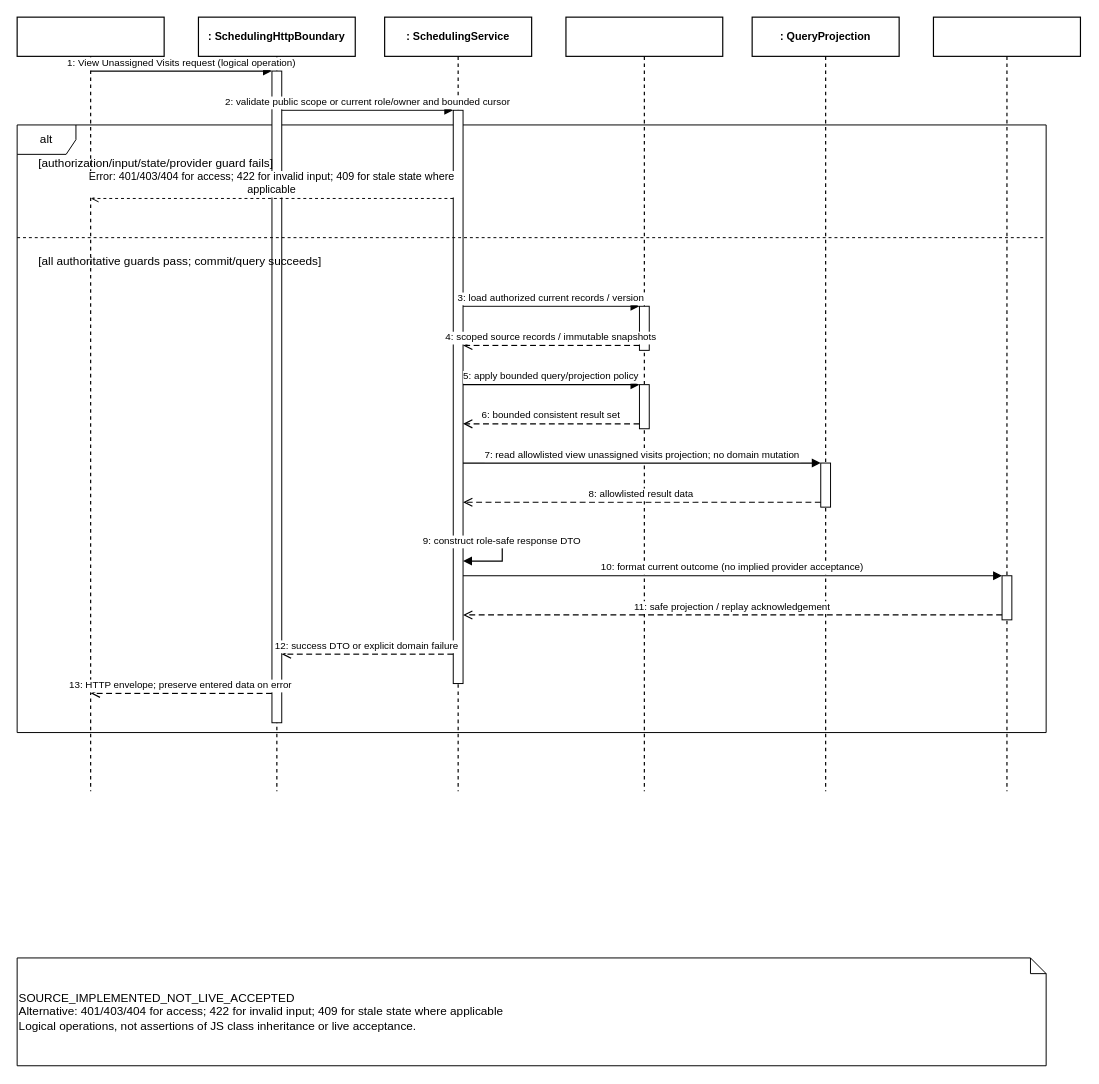
This 1099x1084 diagram has some shape labels left out. Here are the shapes that lost their labels. From the top down, the box of each, then its label:
(16, 16, 164, 791): Client (Staff / Admin)
(565, 16, 723, 791): : ReadRepository
(932, 16, 1081, 791): : ResultProjection
